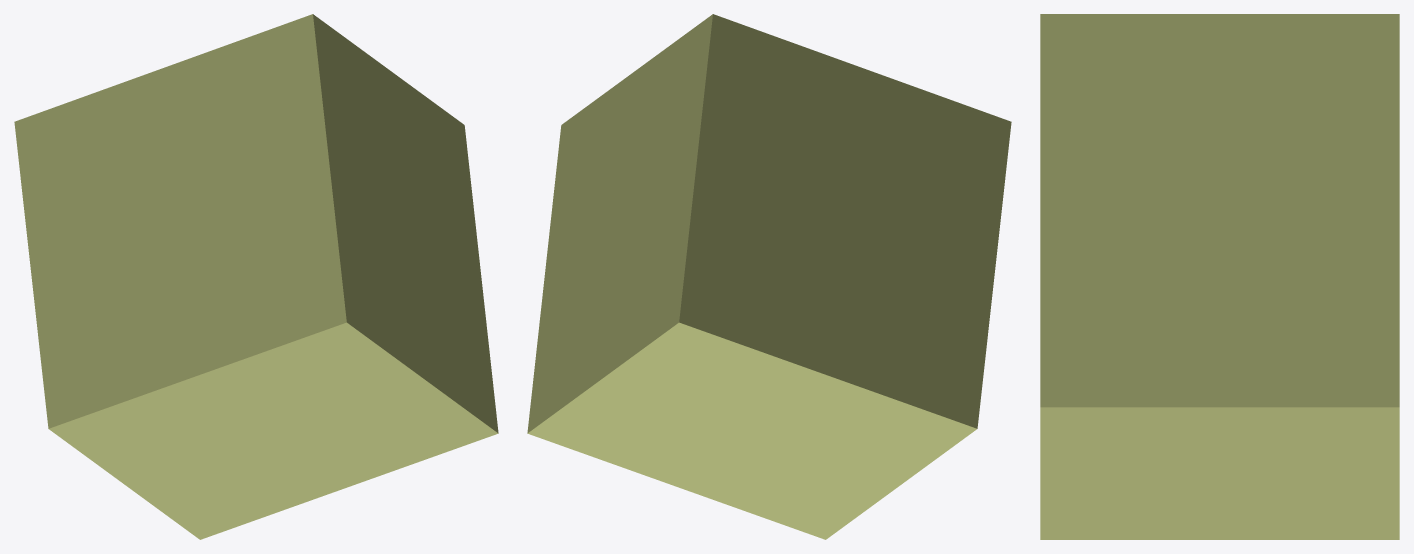
3 views of the same model, side by side, from view 1: azimuth 30°, elevation 25°; view 2: azimuth 150°, elevation 25°; view 3: azimuth 270°, elevation 25° (orthographic). The views are drawn at different scales.
Visible parts, largest first — view 1: 0_1_1_3_3_1_3_0_1_2; view 2: 0_1_1_3_3_1_3_0_1_2; view 3: 0_1_1_3_3_1_3_0_1_2.
Part boxes in pixels (x1,y1,x2,y2): 0_1_1_3_3_1_3_0_1_2: [14, 14, 498, 539]; 0_1_1_3_3_1_3_0_1_2: [527, 14, 1011, 539]; 0_1_1_3_3_1_3_0_1_2: [1040, 14, 1399, 539].
Bounding box in the file's own units: 7.59 × 7.64 × 6.
